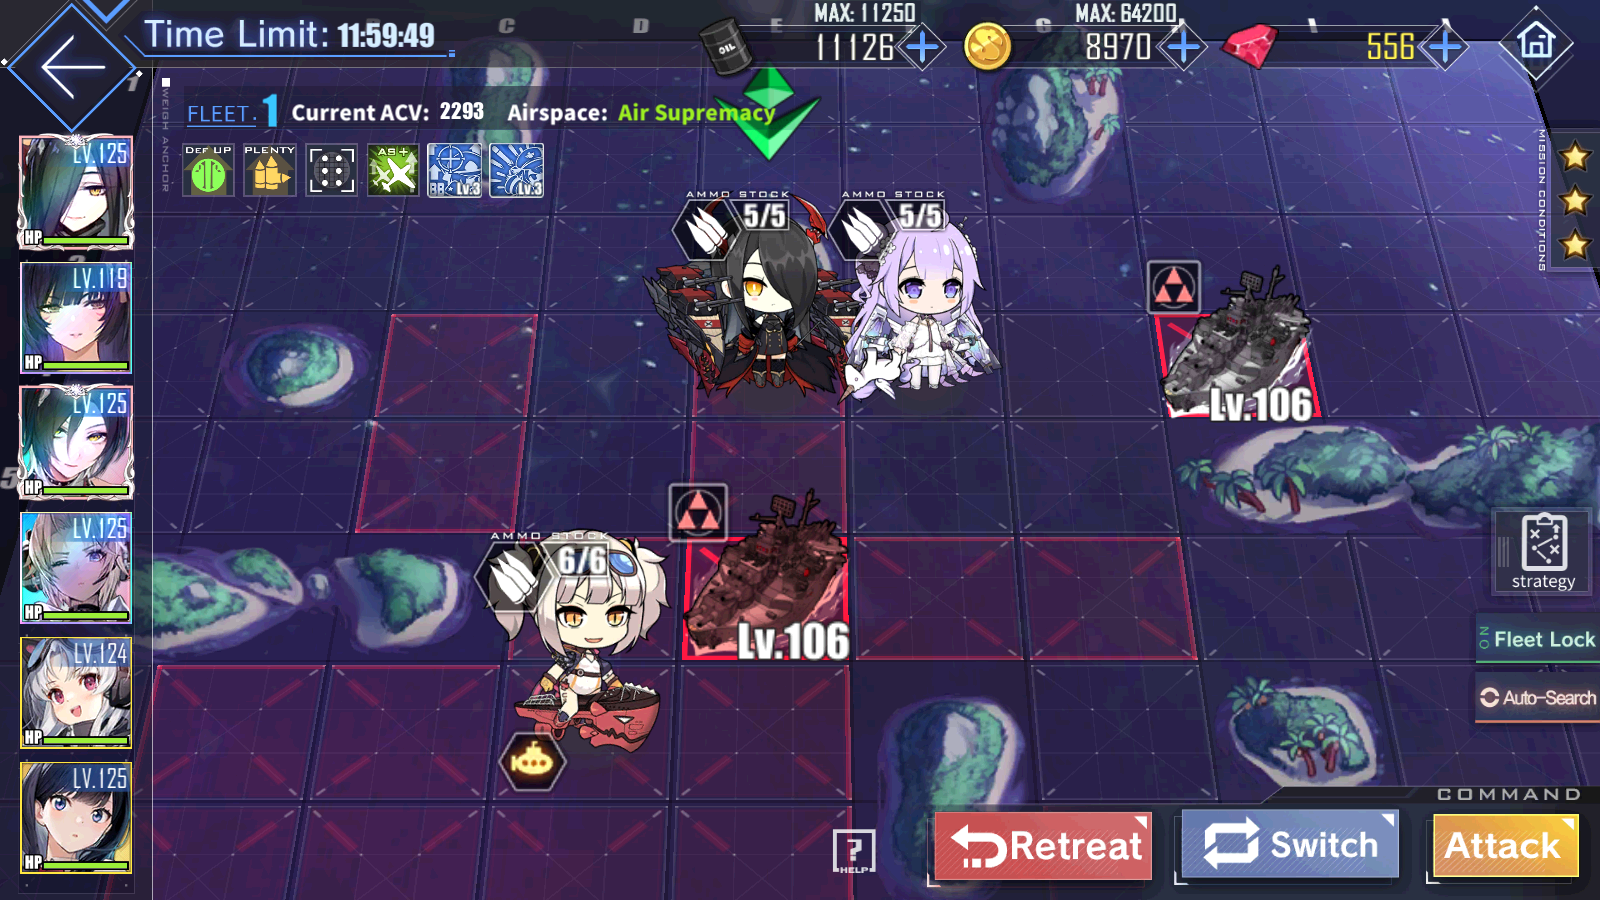ally: (643, 188, 853, 396), (476, 530, 666, 758), (826, 188, 988, 402)
enemy: (668, 485, 851, 659), (1146, 262, 1320, 419)
